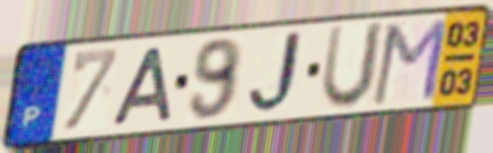7: (63, 46, 121, 136)
9: (184, 35, 248, 123)
A: (109, 44, 176, 129)
J: (246, 27, 311, 119)
M: (367, 15, 451, 108)
U: (317, 19, 389, 113)
